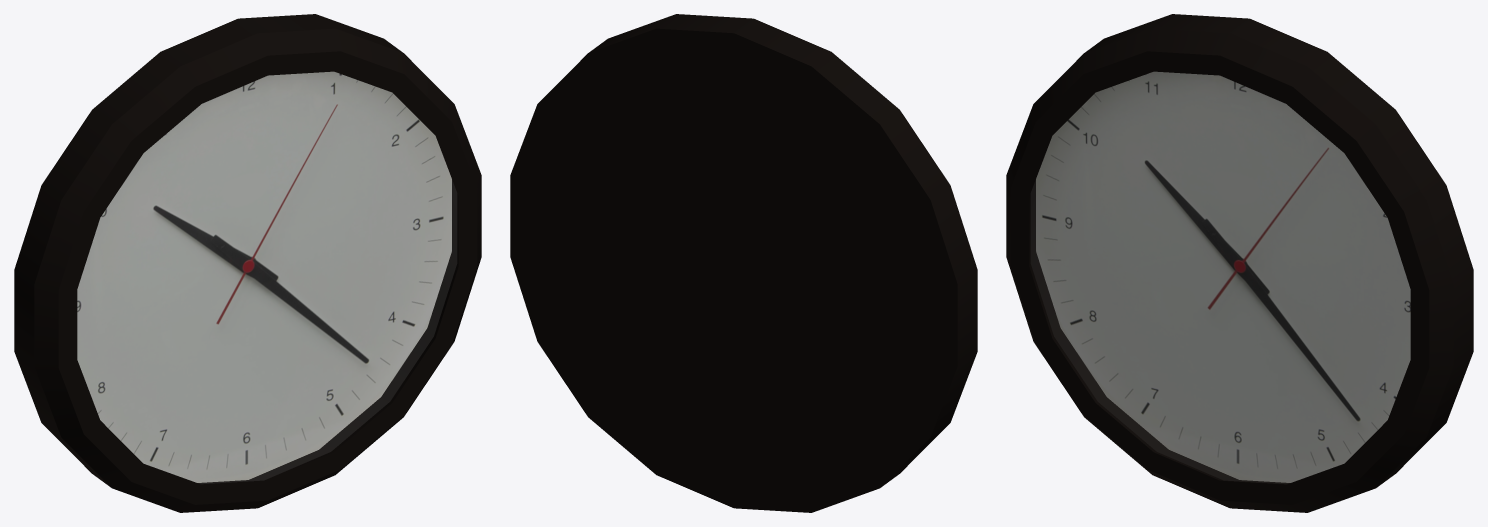
File: Clock.FBX
3 renders of one model, left to right at view 1: azimuth 30°, elevation 25°; view 2: azimuth 150°, elevation 25°; view 3: azimuth 330°, elevation 25°, orthographic.
Parts seen in each view (by area): view 1: clock; view 2: clock; view 3: clock.
Boxes of the visible parts, x1,y1,x2,y2 form: clock: (14,14,481,512); clock: (510,14,977,512); clock: (1006,14,1473,512).
Bounding box in the file's own units: 35.37 × 35.92 × 4.11.
Materials: 2 (1 with a texture image).
